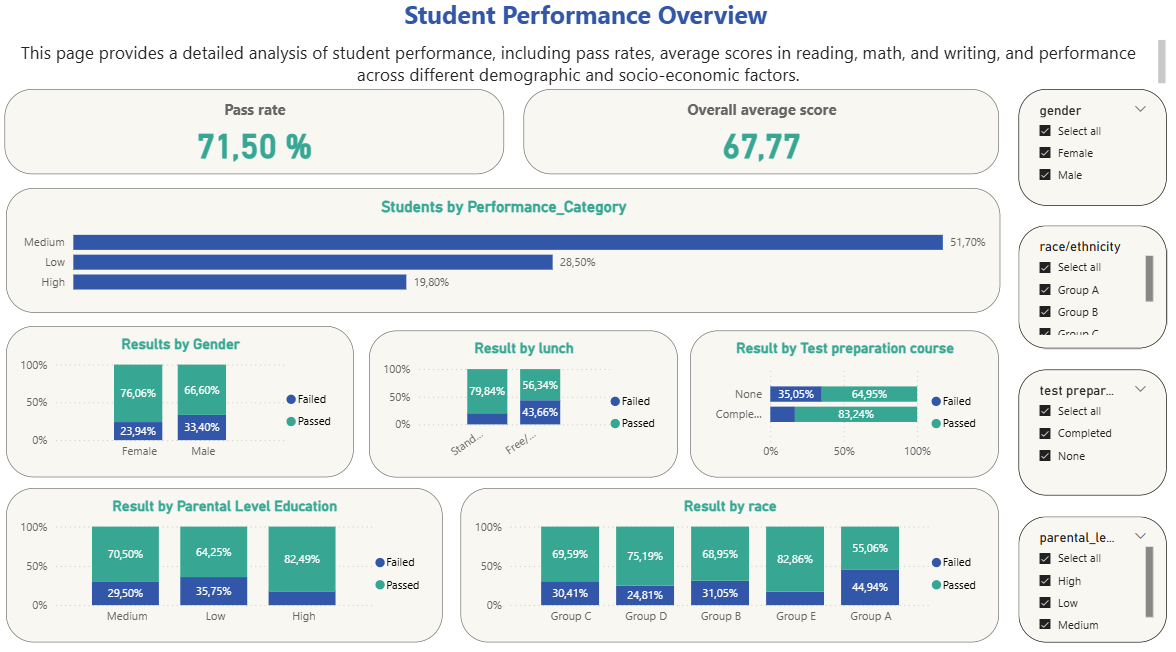

Layout of this report page (visuals, bound fields, positions):
{"tool":"powerbi","page":{"name":"General Performance analysis","canvas":[1280,720],"ordinal":1},"visuals":[{"type":"hundredPercentStackedColumnChart","title":"Results by Gender","fields":{"Category":["StudentsPerformance1.gender"],"Y":["Divide(StudentsPerformance1.TotalStudents, ScopedEval(StudentsPerformance1.TotalStudents, []))"],"Series":["StudentsPerformance1.Result"]},"box":[13,359.5,375.7,163.5],"z":0},{"type":"barChart","title":"Students by Performance_Category","fields":{"Category":["StudentsPerformance1.Performance_Category"],"Y":["StudentsPerformance1.TotalStudents"]},"box":[13,210.5,1073.5,134.4],"z":1000},{"type":"hundredPercentStackedBarChart","title":"Result by Test preparation course","fields":{"Category":["StudentsPerformance1.test preparation course"],"Y":["Divide(StudentsPerformance1.TotalStudents, ScopedEval(StudentsPerformance1.TotalStudents, []))"],"Series":["StudentsPerformance1.Result"]},"box":[751.3,364.3,333.6,158.7],"z":2000},{"type":"hundredPercentStackedColumnChart","title":"Result by race","fields":{"Category":["StudentsPerformance1.race/ethnicity"],"Y":["Divide(StudentsPerformance1.TotalStudents, ScopedEval(StudentsPerformance1.TotalStudents, []))"],"Series":["StudentsPerformance1.Result"]},"box":[503.6,534.3,581.3,166.8],"z":3000},{"type":"hundredPercentStackedColumnChart","title":"Result by Parental Level Education","fields":{"Category":["StudentsPerformance1.parental_level_education_grouped"],"Y":["Divide(StudentsPerformance1.TotalStudents, ScopedEval(StudentsPerformance1.TotalStudents, []))"],"Series":["StudentsPerformance1.Result"]},"box":[13,534.3,471.2,166.8],"z":4000},{"type":"card","title":"Pass rate","fields":{"Values":["StudentsPerformance1.Pass Rate"]},"box":[11.3,103.6,539.2,92.3],"z":8000},{"type":"card","title":"Overall average score","fields":{"Values":["Avg(StudentsPerformance1.AverageScore)"]},"box":[571.6,103.6,513.3,92.3],"z":9000},{"type":"hundredPercentStackedColumnChart","title":"Result by lunch","fields":{"Category":["StudentsPerformance1.lunch"],"Y":["Divide(StudentsPerformance1.TotalStudents, ScopedEval(StudentsPerformance1.TotalStudents, []))"],"Series":["StudentsPerformance1.Result"]},"box":[404.8,364.3,333.6,158.7],"z":10000},{"type":"textbox","box":[11.3,0,1254.9,45.3],"z":11000},{"type":"textbox","box":[0,45.3,1269.5,58.3],"z":12000},{"type":"slicer","fields":{"Values":["StudentsPerformance1.gender"]},"box":[1105.9,103.6,160.3,126.3],"z":13000},{"type":"slicer","fields":{"Values":["StudentsPerformance1.test preparation course"]},"box":[1105.9,406.4,160.3,136],"z":14000},{"type":"slicer","fields":{"Values":["StudentsPerformance1.race/ethnicity"]},"box":[1105.9,251,160.3,132.8],"z":15000},{"type":"slicer","fields":{"Values":["StudentsPerformance1.parental_level_education_grouped"]},"box":[1105.9,565.1,160.3,136],"z":16000}]}

Visuals, with their boxes in screenshot pixels (x1, y1, x2, y2), scaled from the page's 1280x720 canvas onto the 1176x652 screenshot:
"Results by Gender" hundredPercentStackedColumnChart: x1=12, y1=326, x2=357, y2=474
"Students by Performance_Category" barChart: x1=12, y1=191, x2=998, y2=312
"Result by Test preparation course" hundredPercentStackedBarChart: x1=690, y1=330, x2=997, y2=474
"Result by race" hundredPercentStackedColumnChart: x1=463, y1=484, x2=997, y2=635
"Result by Parental Level Education" hundredPercentStackedColumnChart: x1=12, y1=484, x2=445, y2=635
"Pass rate" card: x1=10, y1=94, x2=506, y2=177
"Overall average score" card: x1=525, y1=94, x2=997, y2=177
"Result by lunch" hundredPercentStackedColumnChart: x1=372, y1=330, x2=678, y2=474
textbox: x1=10, y1=0, x2=1163, y2=41
textbox: x1=0, y1=41, x2=1166, y2=94
slicer - StudentsPerformance1.gender: x1=1016, y1=94, x2=1163, y2=208
slicer - StudentsPerformance1.test preparation course: x1=1016, y1=368, x2=1163, y2=491
slicer - StudentsPerformance1.race/ethnicity: x1=1016, y1=227, x2=1163, y2=348
slicer - StudentsPerformance1.parental_level_education_grouped: x1=1016, y1=512, x2=1163, y2=635
